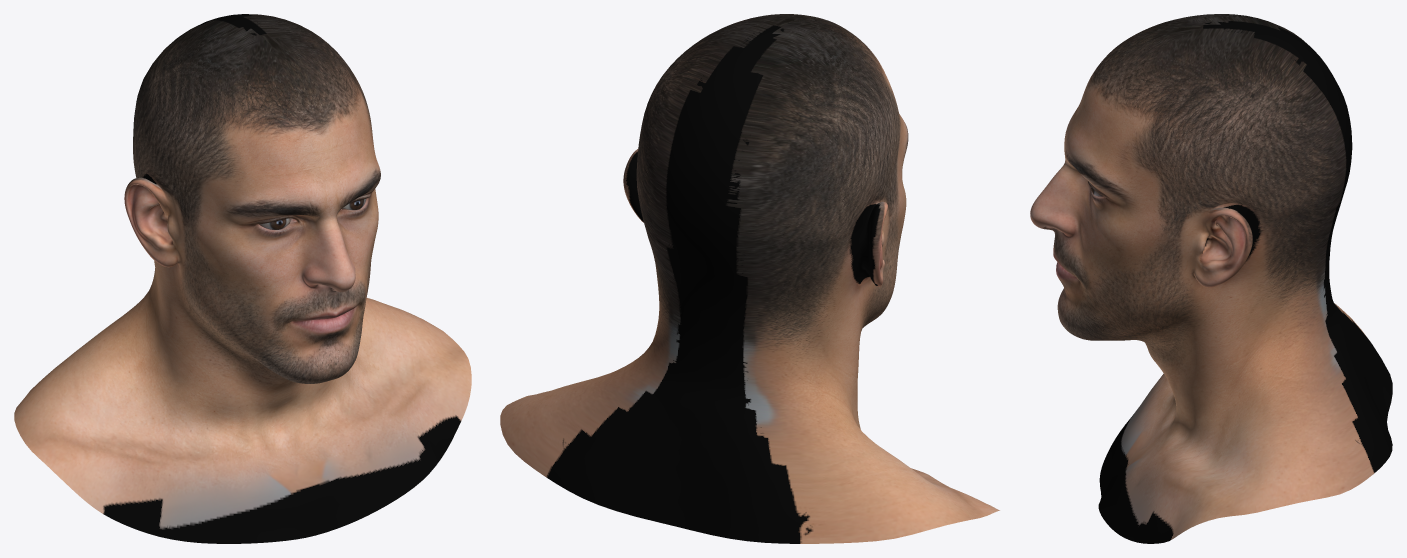
3 renders of one model, left to right at view 1: azimuth 30°, elevation 25°; view 2: azimuth 150°, elevation 25°; view 3: azimuth 270°, elevation 25°, orthographic. The views are drawn at different scales.
Parts seen in each view (by area): view 1: mesh; view 2: mesh; view 3: mesh.
Boxes of the visible parts, x1,y1,x2,y2 form: mesh: (14,14,471,543); mesh: (500,14,999,543); mesh: (1030,14,1392,543).
Size of the model in its own units: 3.27 by 3.41 by 2.38.
Materials: 4 (4 with a texture image).
